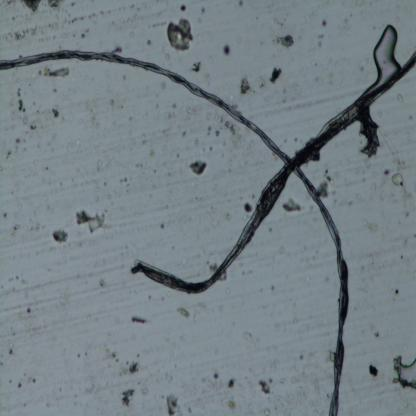Air bubble: (370, 23, 401, 85), (393, 354, 416, 397)
Background material: (164, 13, 195, 54), (354, 107, 379, 157), (75, 208, 104, 235), (389, 170, 411, 204), (304, 0, 334, 22), (186, 157, 208, 178), (12, 26, 42, 41), (224, 118, 242, 140), (44, 64, 72, 78), (282, 197, 302, 216), (119, 359, 139, 378), (258, 374, 276, 395), (166, 394, 184, 415), (315, 183, 332, 202), (271, 32, 294, 46), (26, 216, 42, 235), (263, 66, 282, 82), (122, 386, 136, 407), (54, 228, 70, 246), (238, 75, 251, 97), (271, 13, 284, 34), (23, 0, 43, 13), (176, 304, 190, 322), (7, 221, 20, 239), (193, 302, 207, 318), (276, 393, 290, 408), (161, 370, 175, 385), (131, 314, 151, 324), (105, 345, 118, 360), (256, 72, 266, 90), (341, 18, 352, 34), (48, 0, 62, 12), (368, 365, 379, 380), (242, 328, 254, 341), (190, 61, 202, 73), (225, 397, 237, 409), (207, 260, 218, 273), (222, 42, 232, 56), (332, 190, 340, 207), (50, 104, 59, 119), (111, 44, 126, 53), (94, 161, 105, 173), (277, 244, 288, 256), (362, 157, 371, 171), (243, 203, 253, 215), (328, 72, 336, 87), (18, 99, 26, 113), (149, 146, 158, 158), (140, 385, 149, 397), (308, 42, 315, 57), (324, 169, 332, 182), (369, 224, 378, 235), (100, 277, 108, 289), (224, 210, 232, 222), (262, 404, 270, 416), (135, 161, 144, 171), (90, 114, 97, 126), (141, 132, 148, 144), (167, 110, 176, 119), (211, 372, 220, 381), (26, 377, 36, 385), (200, 70, 210, 78), (16, 85, 22, 98), (267, 283, 276, 291), (170, 101, 179, 109), (51, 133, 58, 143), (186, 404, 193, 414), (5, 149, 12, 159), (29, 124, 39, 131), (152, 22, 166, 27), (224, 285, 231, 295), (369, 183, 376, 193), (10, 110, 16, 121), (249, 192, 257, 200), (180, 129, 188, 137), (21, 116, 28, 125), (129, 333, 136, 342), (7, 347, 14, 356), (228, 379, 235, 388), (87, 12, 97, 18), (206, 124, 212, 134), (402, 238, 408, 248), (168, 348, 174, 358), (12, 210, 19, 218), (74, 351, 82, 358), (316, 40, 323, 48), (97, 9, 105, 16), (79, 32, 86, 40), (374, 330, 381, 338), (15, 136, 21, 145), (108, 97, 114, 106), (383, 169, 392, 175), (394, 14, 400, 23), (146, 292, 152, 301), (160, 222, 165, 232), (120, 178, 127, 185), (71, 17, 78, 24), (0, 211, 7, 218), (346, 199, 353, 206), (25, 305, 31, 313), (180, 4, 186, 12), (160, 294, 166, 302), (324, 276, 330, 284), (20, 280, 29, 285), (82, 350, 89, 356), (239, 270, 246, 276), (393, 244, 399, 251), (105, 68, 110, 76), (84, 27, 92, 32), (208, 144, 213, 152), (201, 5, 206, 13), (299, 352, 304, 360), (52, 88, 58, 94), (17, 382, 23, 388), (155, 101, 159, 110), (394, 289, 400, 295), (45, 400, 50, 407), (7, 276, 14, 281), (129, 3, 136, 8), (165, 53, 170, 60), (360, 178, 367, 183), (293, 301, 298, 308), (108, 192, 112, 200), (318, 34, 326, 38), (322, 19, 326, 27), (360, 329, 365, 335), (362, 220, 368, 225), (58, 181, 63, 187), (94, 195, 100, 200), (102, 181, 107, 187), (22, 402, 27, 408), (57, 386, 62, 392), (17, 202, 22, 208), (152, 184, 157, 190), (176, 153, 181, 159), (146, 41, 152, 46), (178, 336, 184, 341), (404, 212, 410, 217), (162, 146, 167, 152), (280, 378, 285, 384), (194, 138, 198, 145), (25, 293, 30, 298), (8, 378, 13, 383), (312, 63, 317, 68), (216, 131, 221, 136), (10, 341, 14, 347), (0, 166, 3, 174), (88, 315, 92, 321), (198, 18, 202, 24), (38, 70, 42, 75), (96, 122, 100, 127), (400, 254, 404, 259), (12, 330, 15, 336), (0, 360, 3, 366), (80, 16, 86, 19), (46, 167, 50, 171), (136, 354, 140, 358), (11, 190, 14, 194), (47, 206, 50, 210), (16, 275, 18, 280), (354, 306, 356, 311), (413, 235, 416, 238)
Cellulose filter fibre: (131, 49, 416, 298), (378, 126, 404, 174)
Cotton: (0, 46, 352, 416)
